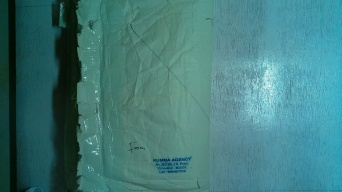l: (60, 1, 217, 189)
